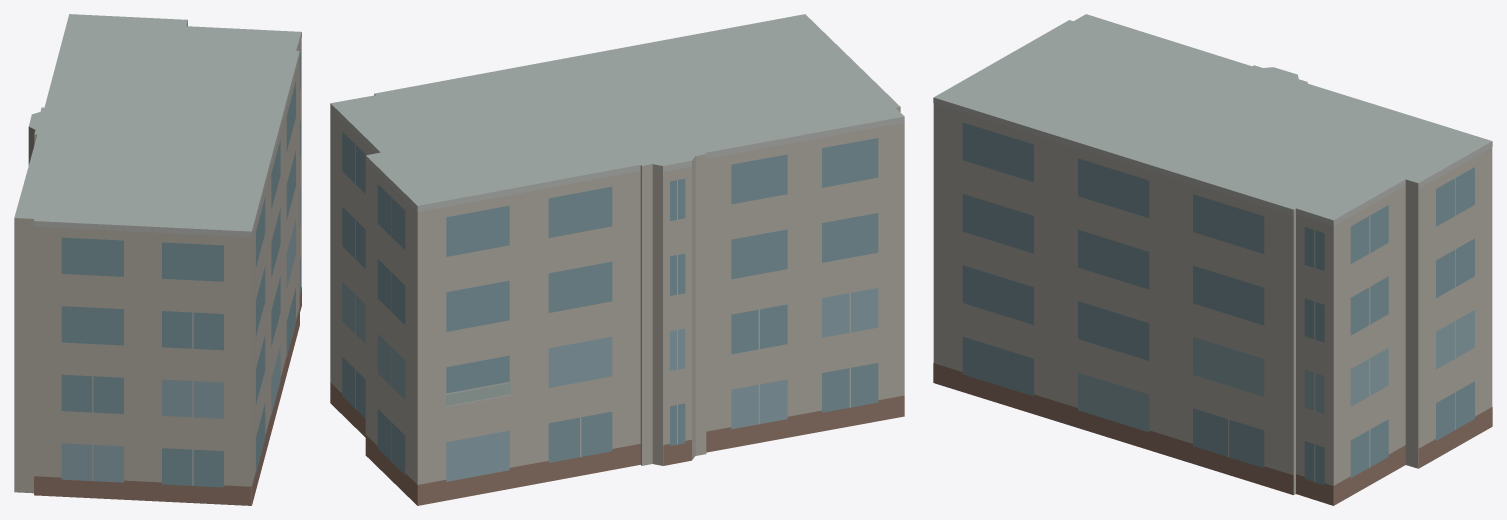
File: survey-upis-32609091.glb
3 renders of one model, left to right at view 1: azimuth 30°, elevation 25°; view 2: azimuth 150°, elevation 25°; view 3: azimuth 270°, elevation 25°, orthographic. The views are drawn at different scales.
Visible parts, largest first — view 1: survey-upis-32609091.tmp; view 2: survey-upis-32609091.tmp; view 3: survey-upis-32609091.tmp.
Boxes of the visible parts, left/top/right/bottom form: survey-upis-32609091.tmp: left=14, top=14, right=301, bottom=505; survey-upis-32609091.tmp: left=330, top=14, right=904, bottom=505; survey-upis-32609091.tmp: left=933, top=14, right=1492, bottom=505.
Size of the model in its own units: 18.44 by 11.89 by 21.11.
